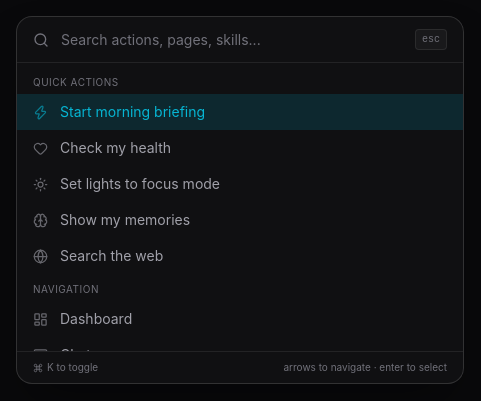
Test: CommandPalette › filters items by search query
Type "health" into the field with placeholder "Search actions, pages, skills..." at (232, 40), box [61,30,403,50]
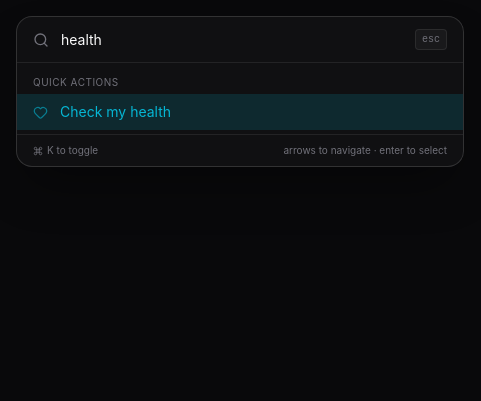
Expected: the text "Check my health" is shown, [60,102,171,122]
Expected: the button "Dashboard" is gone
